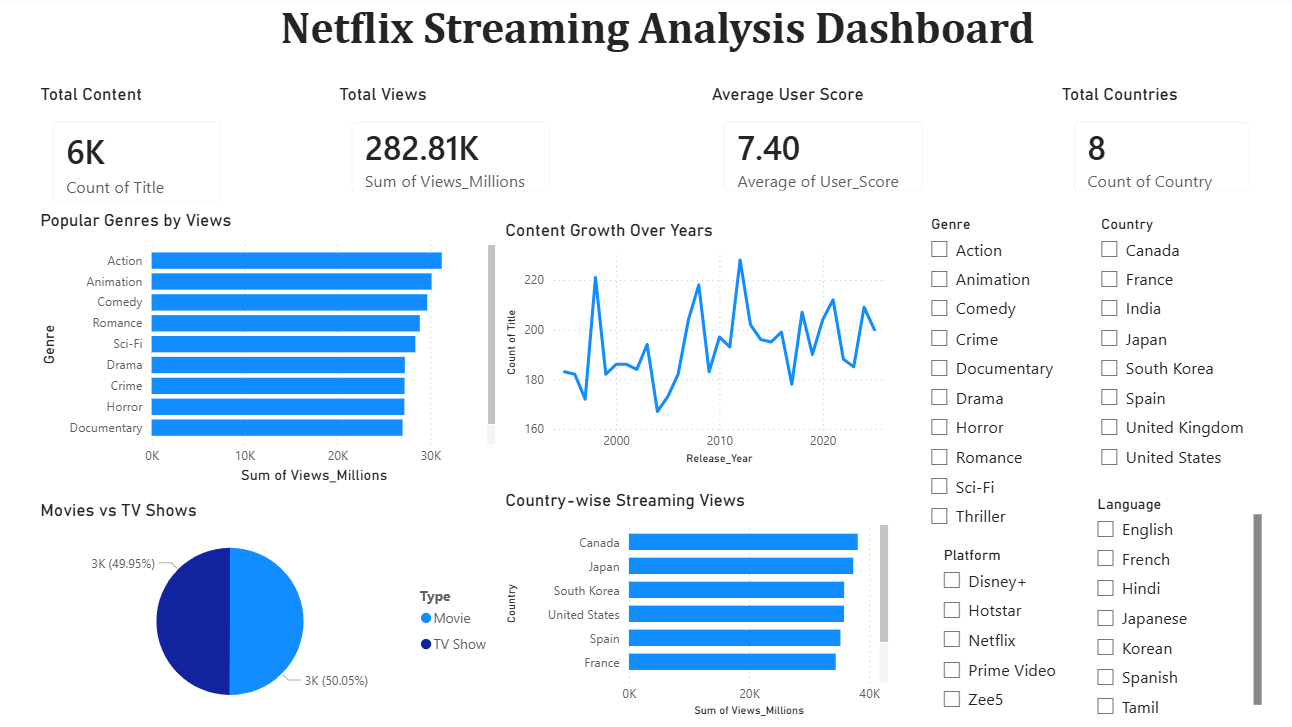

Layout of this report page (visuals, bound fields, positions):
{"tool":"powerbi","page":{"name":"Page 1","canvas":[1280,720],"ordinal":0},"visuals":[{"type":"textbox","box":[9.6,0,1270.7,85.1],"z":0},{"type":"cardVisual","title":"Total Content","fields":{"Data":["CountNonNull(movie_streaming_dataset_6000.Title)"]},"box":[36.7,85.6,199.3,133.3],"z":1000},{"type":"cardVisual","title":"Total Views","fields":{"Data":["Sum(movie_streaming_dataset_6000.Views_Millions)"]},"box":[328.9,85.6,228.7,123.5],"z":2000},{"type":"cardVisual","title":"Average User Score","fields":{"Data":["Avg(movie_streaming_dataset_6000.User_Score)"]},"box":[693.3,85.6,229.9,123.5],"z":3000},{"type":"cardVisual","title":"Total Countries","fields":{"Data":["Count(movie_streaming_dataset_6000.Country)"]},"box":[1035.7,85.6,205.4,123.5],"z":4000},{"type":"barChart","title":"Popular Genres by Views","fields":{"Category":["movie_streaming_dataset_6000.Genre"],"Y":["Sum(movie_streaming_dataset_6000.Views_Millions)"]},"box":[36.7,209.1,454.9,272.7],"z":5000},{"type":"pieChart","title":"Movies vs TV Shows","fields":{"Category":["movie_streaming_dataset_6000.Type"],"Y":["CountNonNull(movie_streaming_dataset_6000.Title)"]},"box":[36.7,492.8,454.9,217.7],"z":6000},{"type":"lineChart","title":"Content Growth Over Years","fields":{"Category":["movie_streaming_dataset_6000.Release_Year"],"Y":["CountNonNull(movie_streaming_dataset_6000.Title)"]},"box":[491.6,218.9,384,244.6],"z":7000},{"type":"barChart","title":"Country-wise Streaming Views","fields":{"Category":["movie_streaming_dataset_6000.Country"],"Y":["Sum(movie_streaming_dataset_6000.Views_Millions)"]},"box":[491.6,483,384,227.4],"z":8000},{"type":"slicer","fields":{"Values":["movie_streaming_dataset_6000.Genre"]},"box":[900,209.1,166.3,324.1],"z":9000},{"type":"slicer","fields":{"Values":["movie_streaming_dataset_6000.Country"]},"box":[1066.3,209.1,178.5,269],"z":10000},{"type":"slicer","fields":{"Values":["movie_streaming_dataset_6000.Platform"]},"box":[912.2,533.2,140.6,178.5],"z":11000},{"type":"slicer","fields":{"Values":["movie_streaming_dataset_6000.Language"]},"box":[1062.6,483,178.5,227.4],"z":11001}]}

Visuals, with their boxes in screenshot pixels (x1, y1, x2, y2), scaled from the page's 1280x720 canvas onto the 1292x727 screenshot:
textbox: [x1=10, y1=0, x2=1291, y2=86]
"Total Content" cardVisual: [x1=37, y1=86, x2=238, y2=221]
"Total Views" cardVisual: [x1=332, y1=86, x2=563, y2=211]
"Average User Score" cardVisual: [x1=700, y1=86, x2=932, y2=211]
"Total Countries" cardVisual: [x1=1045, y1=86, x2=1253, y2=211]
"Popular Genres by Views" barChart: [x1=37, y1=211, x2=496, y2=486]
"Movies vs TV Shows" pieChart: [x1=37, y1=498, x2=496, y2=717]
"Content Growth Over Years" lineChart: [x1=496, y1=221, x2=884, y2=468]
"Country-wise Streaming Views" barChart: [x1=496, y1=488, x2=884, y2=717]
slicer - movie_streaming_dataset_6000.Genre: [x1=908, y1=211, x2=1076, y2=538]
slicer - movie_streaming_dataset_6000.Country: [x1=1076, y1=211, x2=1256, y2=483]
slicer - movie_streaming_dataset_6000.Platform: [x1=921, y1=538, x2=1063, y2=719]
slicer - movie_streaming_dataset_6000.Language: [x1=1073, y1=488, x2=1253, y2=717]
